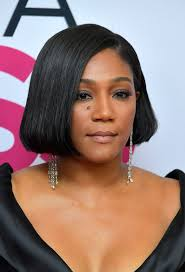bare: (64, 106, 138, 163)
